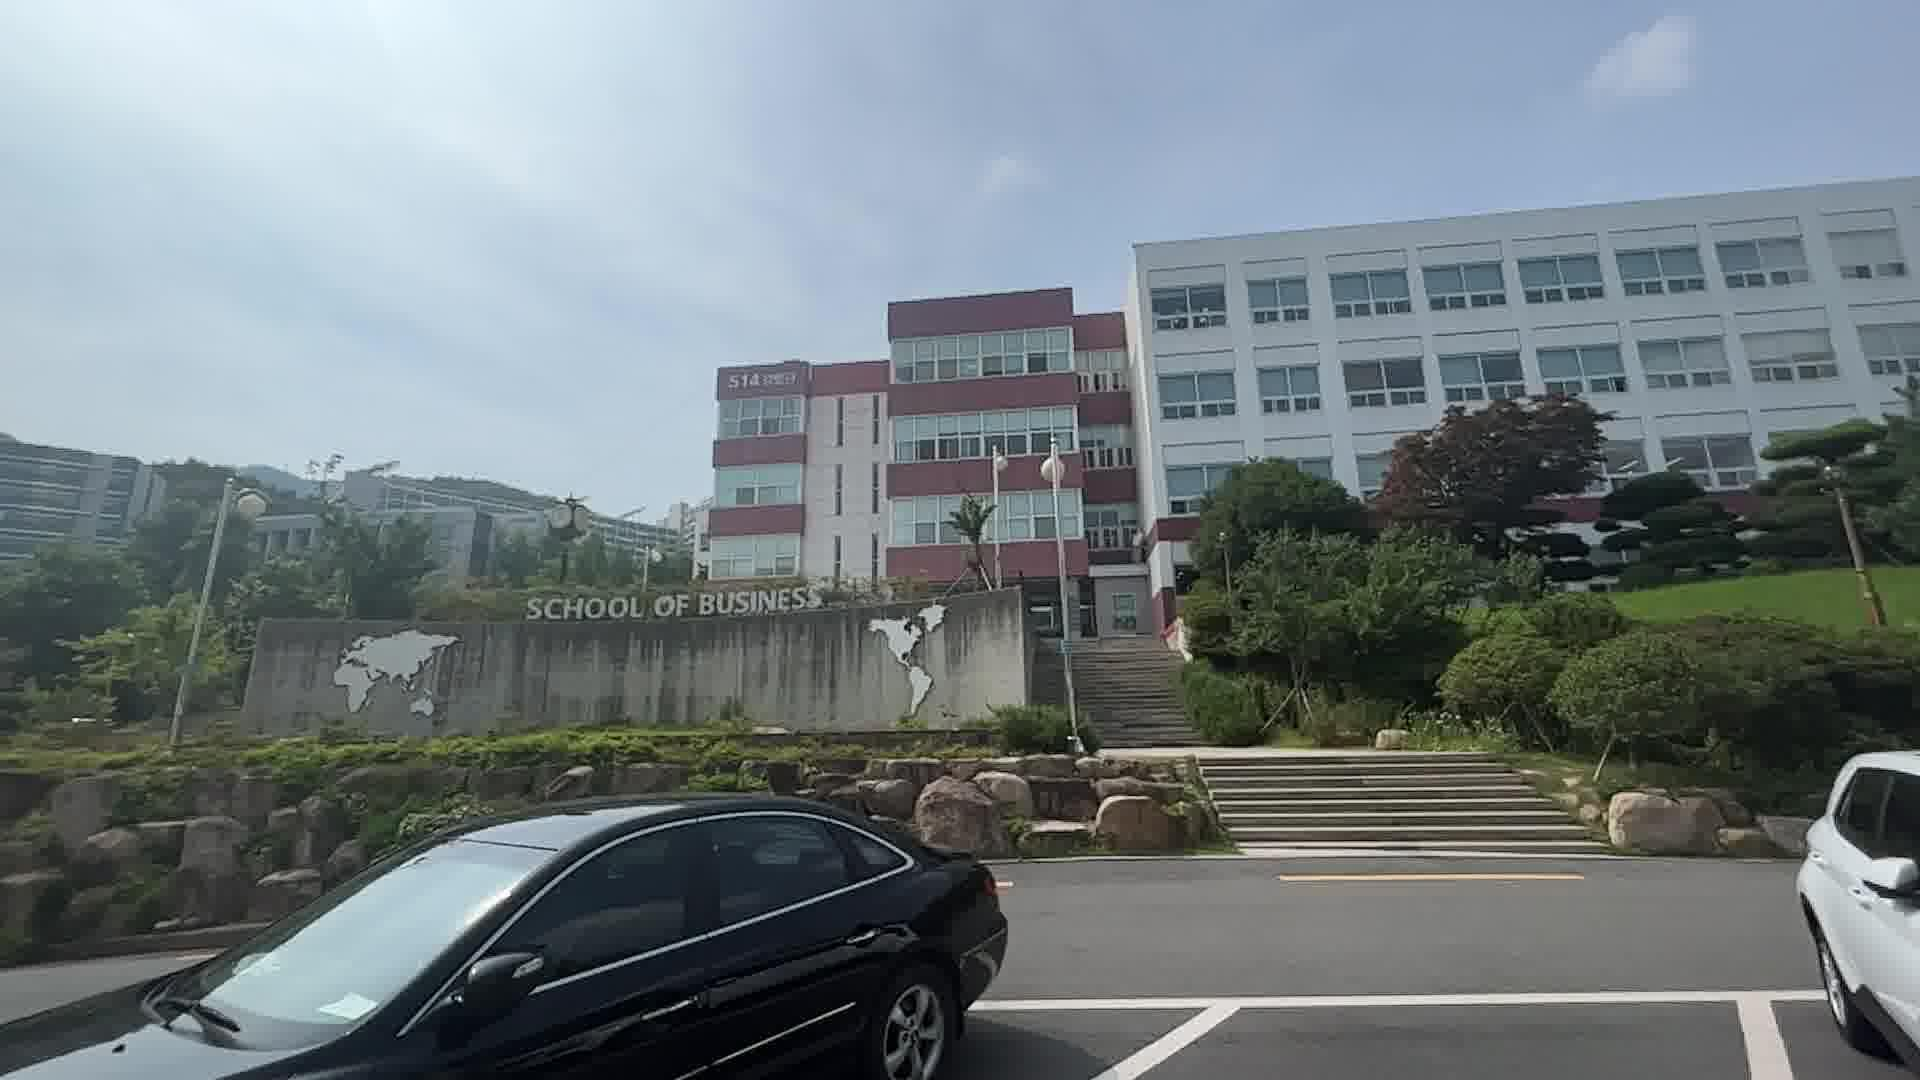building: (1150, 179, 1916, 477), (676, 223, 1183, 671)
